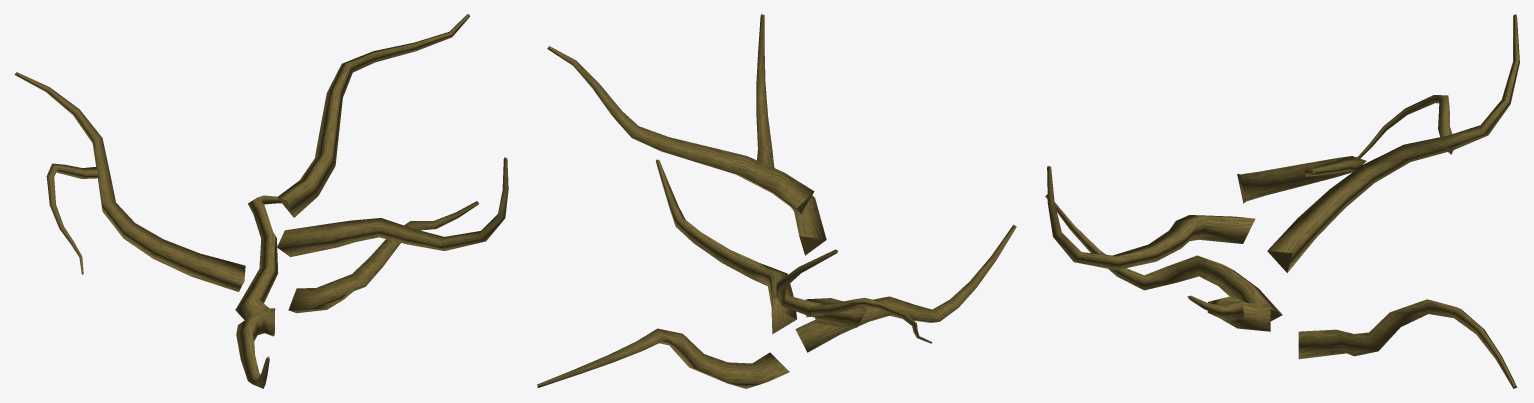
File: INST_TOPTREE_BRANCHES.fbx
The picture shows the model from 3 angles, left to right: view 1: azimuth 30°, elevation 25°; view 2: azimuth 150°, elevation 25°; view 3: azimuth 270°, elevation 25°; orthographic projection. The views are drawn at different scales.
Parts seen in each view (by area): view 1: INST_TOPTREE_BRANCHES; view 2: INST_TOPTREE_BRANCHES; view 3: INST_TOPTREE_BRANCHES.
Part boxes in pixels (x1,y1,x2,y2): INST_TOPTREE_BRANCHES: (14,14,508,388); INST_TOPTREE_BRANCHES: (537,14,1016,388); INST_TOPTREE_BRANCHES: (1045,14,1519,388).
Size of the model in its own units: 161564 by 109329 by 157096.
Materials: 1 (1 with a texture image).
